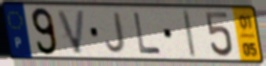5: (203, 11, 235, 59)
9: (30, 6, 60, 57)
I: (181, 9, 198, 59)
J: (104, 11, 127, 55)
L: (131, 11, 163, 55)
V: (55, 9, 87, 56)
